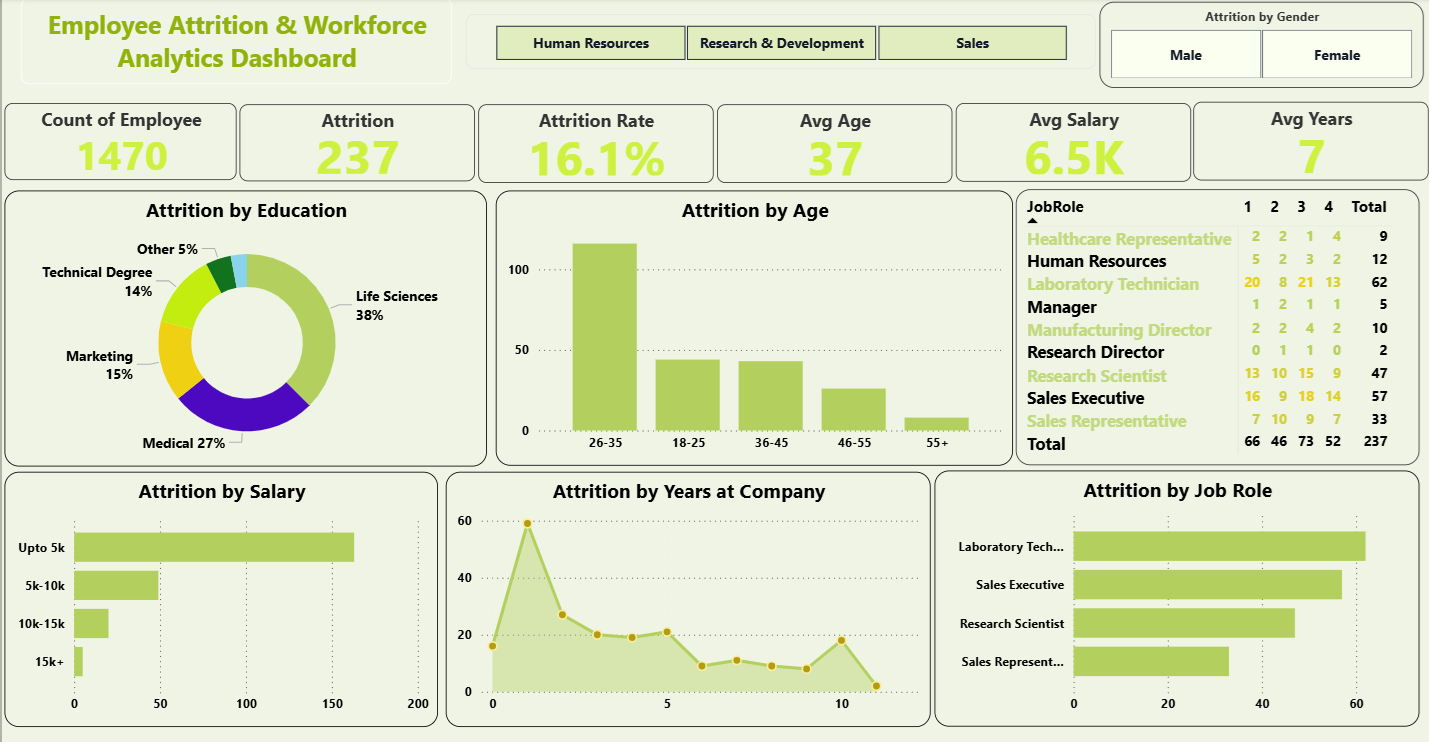

What the dashboard file says about the page in this screenshot:
{"tool":"powerbi","page":{"name":"Page 1","canvas":[1380,720],"ordinal":0},"visuals":[{"type":"card","title":"Count of Employee","fields":{"Values":["CountNonNull(HR_Analytics.EmpID)"]},"box":[2.4,101.3,224.4,74.8],"z":0},{"type":"card","title":"Attrition","fields":{"Values":["Sum(HR_Analytics.AttritionCount)"]},"box":[229.2,102.5,226.8,74.8],"z":1000},{"type":"card","title":"Attrition Rate","fields":{"Values":["HR_Analytics.AttritionRate"]},"box":[459.7,102.5,226.8,76],"z":2000},{"type":"card","title":"Avg Age","fields":{"Values":["Avg(HR_Analytics.Age)"]},"box":[690.1,102.5,226.8,76],"z":3000},{"type":"card","title":"Avg Salary","fields":{"Values":["Avg(HR_Analytics.MonthlyIncome)"]},"box":[920.5,101.3,226.8,76],"z":5000},{"type":"card","title":"Avg Years","fields":{"Values":["Avg(HR_Analytics.YearsAtCompany)"]},"box":[1149.7,100.1,226.8,76],"z":6000},{"type":"donutChart","title":"Attrition by Education","fields":{"Y":["Sum(HR_Analytics.AttritionCount)"],"Category":["HR_Analytics.EducationField","HR_Analytics.YearsAtCompany"]},"box":[2.4,185.8,465.7,266.6],"z":7000},{"type":"columnChart","title":"Attrition by Age","fields":{"Category":["HR_Analytics.AgeGroup"],"Y":["Sum(HR_Analytics.AttritionCount)"]},"box":[476.5,185.8,499.5,265.4],"z":8000},{"type":"pivotTable","fields":{"Rows":["HR_Analytics.JobRole"],"Columns":["HR_Analytics.JobSatisfaction"],"Values":["Sum(HR_Analytics.AttritionCount)"]},"box":[978.4,184.6,389.7,266.6],"z":9000},{"type":"barChart","title":"Attrition by Salary","fields":{"Category":["HR_Analytics.SalarySlab"],"Y":["Sum(HR_Analytics.AttritionCount)"]},"box":[2.4,457.2,418.6,246.1],"z":10000},{"type":"barChart","title":"Attrition by Job Role","fields":{"Category":["HR_Analytics.JobRole"],"Y":["Sum(HR_Analytics.AttritionCount)"]},"box":[900,456,468.1,247.3],"z":11000},{"type":"areaChart","title":"Attrition by Years at Company","fields":{"Category":["HR_Analytics.YearsAtCompany"],"Y":["Sum(HR_Analytics.AttritionCount)"]},"box":[428.3,457.2,468.1,246.1],"z":12000},{"type":"advancedSlicerVisual","title":"Attrition by Gender","fields":{"Values":["HR_Analytics.Gender"]},"box":[1059.3,3.6,312.5,83.2],"z":13000},{"type":"slicer","fields":{"Values":["HR_Analytics.Department"]},"box":[447.6,15.7,608,53.1],"z":14000},{"type":"textbox","box":[18.1,0,416.2,83.2],"z":15000}]}

Visuals, with their boxes in screenshot pixels (x1, y1, x2, y2), scaled from the page's 1380x720 canvas onto the 1429x742 screenshot:
"Count of Employee" card: {"left": 2, "top": 104, "right": 235, "bottom": 181}
"Attrition" card: {"left": 237, "top": 106, "right": 472, "bottom": 183}
"Attrition Rate" card: {"left": 476, "top": 106, "right": 711, "bottom": 184}
"Avg Age" card: {"left": 715, "top": 106, "right": 949, "bottom": 184}
"Avg Salary" card: {"left": 953, "top": 104, "right": 1188, "bottom": 183}
"Avg Years" card: {"left": 1191, "top": 103, "right": 1425, "bottom": 181}
"Attrition by Education" donutChart: {"left": 2, "top": 191, "right": 485, "bottom": 466}
"Attrition by Age" columnChart: {"left": 493, "top": 191, "right": 1011, "bottom": 465}
pivotTable - HR_Analytics.JobRole x HR_Analytics.JobSatisfaction: {"left": 1013, "top": 190, "right": 1417, "bottom": 465}
"Attrition by Salary" barChart: {"left": 2, "top": 471, "right": 436, "bottom": 725}
"Attrition by Job Role" barChart: {"left": 932, "top": 470, "right": 1417, "bottom": 725}
"Attrition by Years at Company" areaChart: {"left": 444, "top": 471, "right": 928, "bottom": 725}
"Attrition by Gender" advancedSlicerVisual: {"left": 1097, "top": 4, "right": 1421, "bottom": 89}
slicer - HR_Analytics.Department: {"left": 463, "top": 16, "right": 1093, "bottom": 71}
textbox: {"left": 19, "top": 0, "right": 450, "bottom": 86}
